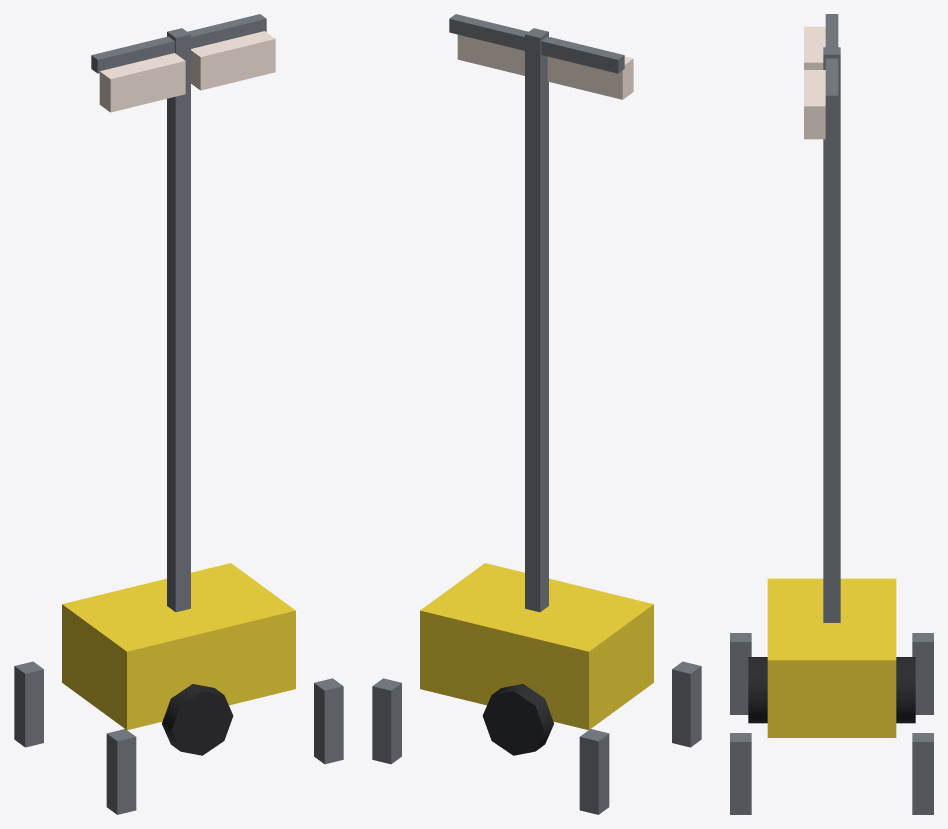
The model's file is site_clutter3.fbx.
The picture shows the model from 3 angles, left to right: view 1: azimuth 30°, elevation 25°; view 2: azimuth 150°, elevation 25°; view 3: azimuth 270°, elevation 25°; orthographic projection.
Parts seen in each view (by area): view 1: a1089/0/site_clutter3; view 2: a1089/0/site_clutter3; view 3: a1089/0/site_clutter3.
Part boxes in pixels (bbox=[...]): a1089/0/site_clutter3: bbox=[14, 14, 343, 814]; a1089/0/site_clutter3: bbox=[372, 14, 701, 814]; a1089/0/site_clutter3: bbox=[730, 14, 933, 814].
Bounding box in the file's own units: 2.41 × 7.3 × 1.9.
